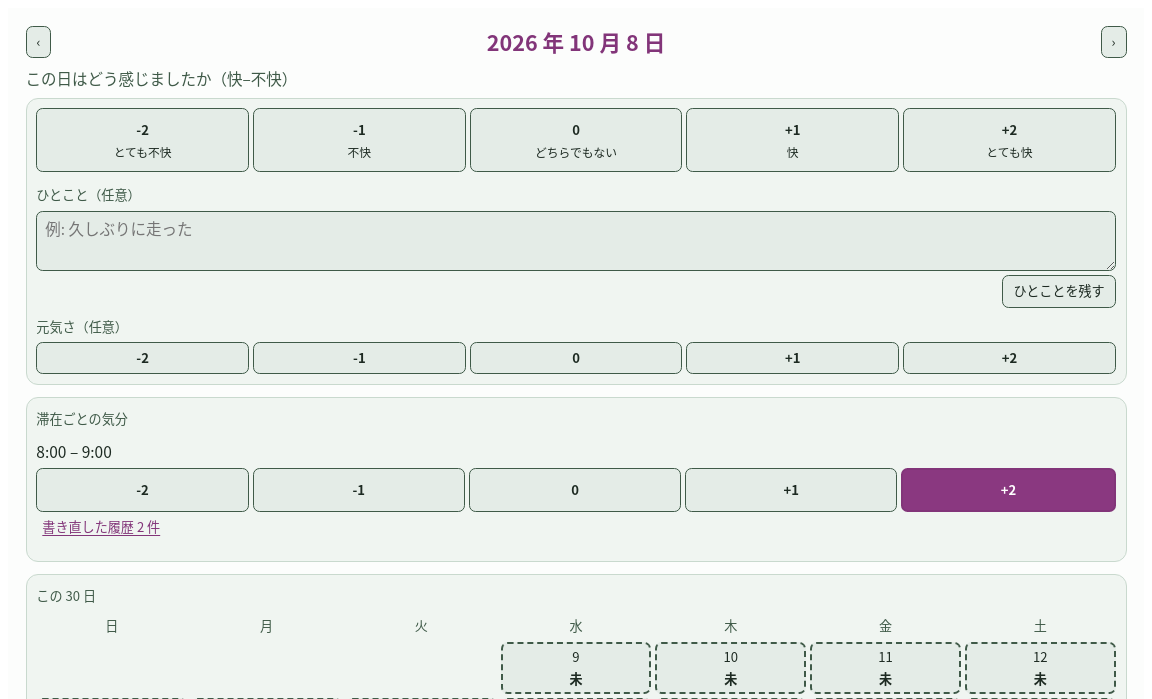
滞在の行 › 記録 2 件の滞在は「書き直した履歴 2 件」を押すと、記入の日時の新しい順に 2 件が出る
The image size is (1152, 699).
expect the button with test id "valence-1" is shown: met, box [686, 108, 899, 172]
Click the button "書き直した履歴 2 件".
click(101, 528)  # box [36, 515, 166, 540]
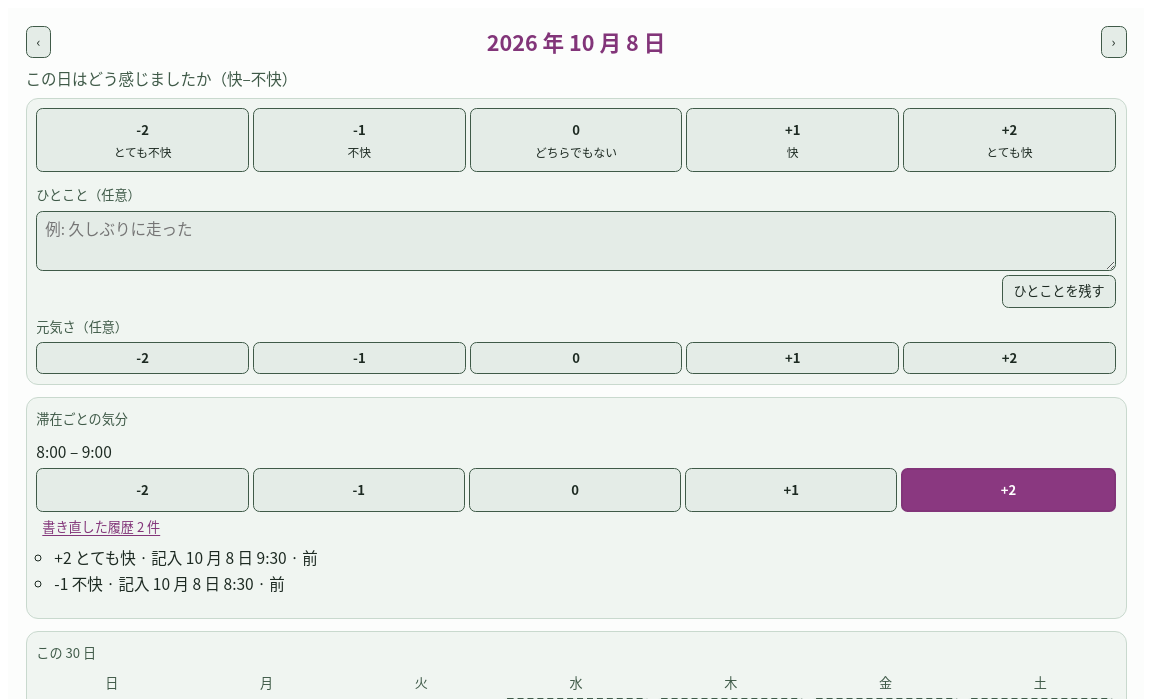
expect the list item with test id "feel-stay-history-row" shows "+2": met, box [54, 546, 318, 568]
expect the list item with test id "feel-stay-history-row" shows "9:30": met, box [54, 546, 318, 568]
expect the list item with test id "feel-stay-history-row" shows "-1": met, box [54, 572, 285, 594]
